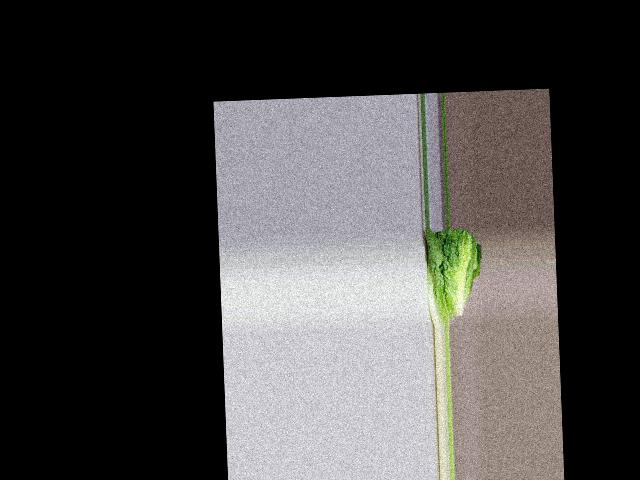lettuce: (422, 226, 477, 322)
